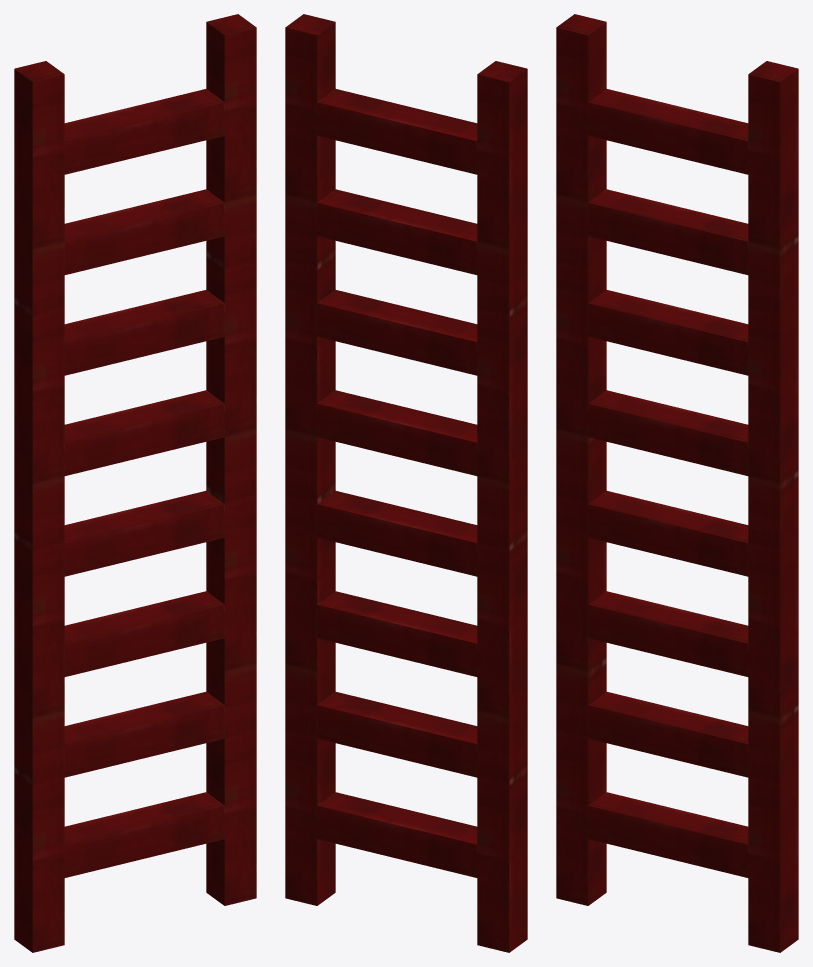
Rendered from ladder.glb.
3 renders of one model, left to right at view 1: azimuth 30°, elevation 25°; view 2: azimuth 150°, elevation 25°; view 3: azimuth 330°, elevation 25°, orthographic.
Parts seen in each view (by area): view 1: ladder; view 2: ladder; view 3: ladder.
Boxes of the visible parts, box(x1,y1,x2,y2) form: ladder: box(14, 14, 256, 952); ladder: box(285, 14, 527, 952); ladder: box(556, 14, 798, 952).
Bounding box in the file's own units: 3.5 × 13 × 0.5.
Materials: 1 (1 with a texture image).
